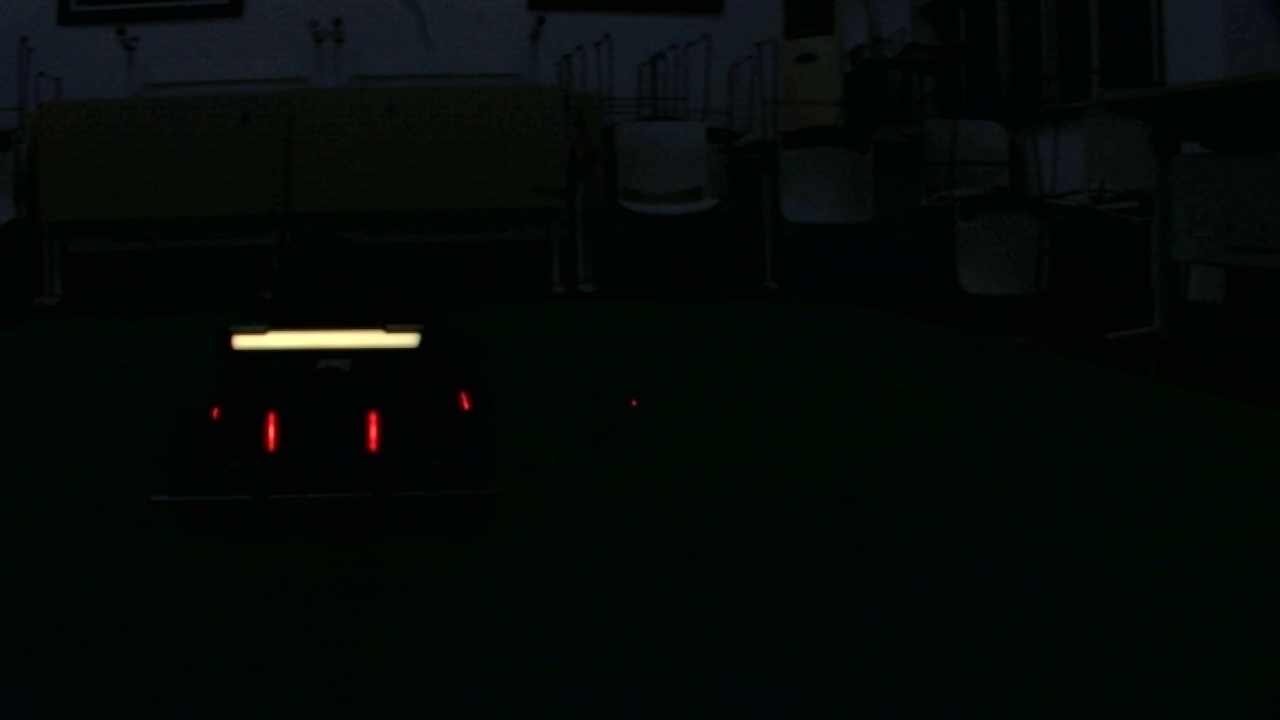lamp: (262, 407, 277, 453), (366, 408, 382, 450)
pair1: (264, 409, 380, 453)
